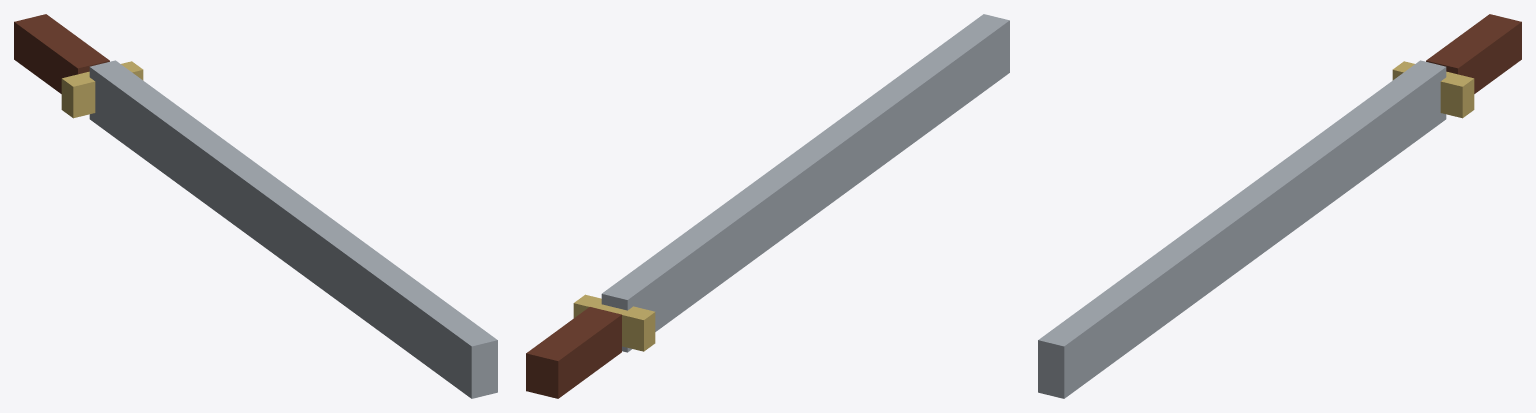
The model's file is sword.glb.
3 views of the same model, side by side, from view 1: azimuth 30°, elevation 25°; view 2: azimuth 150°, elevation 25°; view 3: azimuth 330°, elevation 25° (orthographic).
Visible parts, largest first — view 1: sword; view 2: sword; view 3: sword.
Boxes of the visible parts, box(x1,y1,x2,y2) form: sword: box(14, 14, 497, 398); sword: box(526, 14, 1009, 398); sword: box(1038, 14, 1521, 398).
Size of the model in its own units: 0.07 by 0.05 by 0.785.
